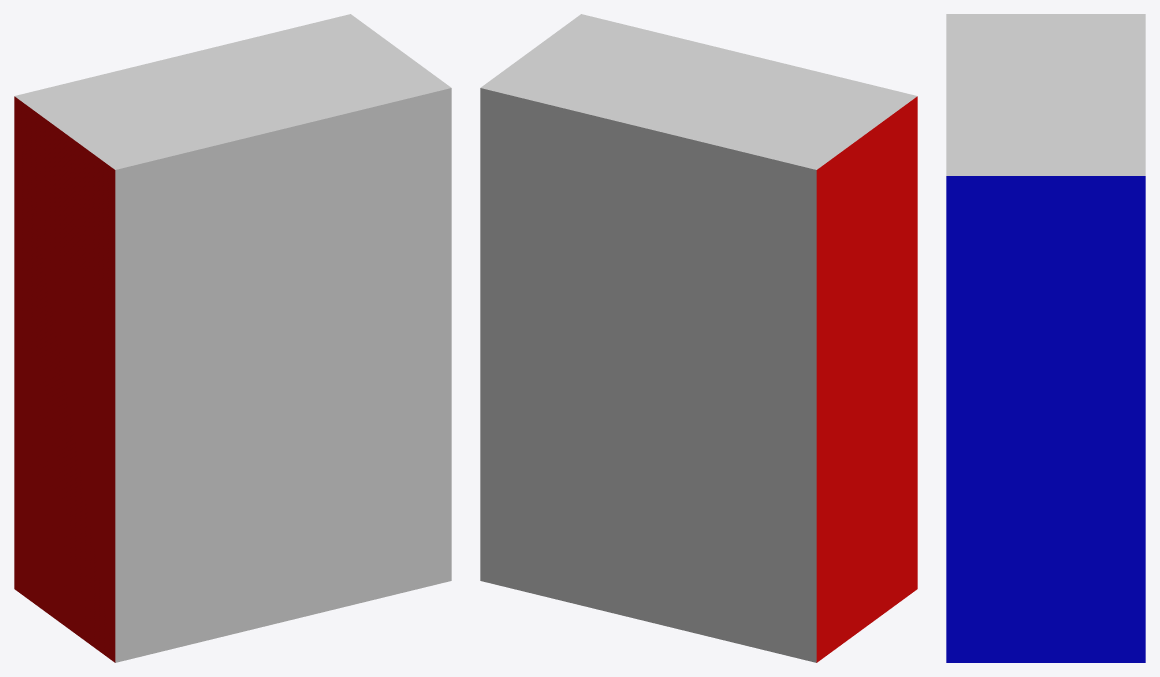
Rendered from totalTest.obj.
3 views of the same model, side by side, from view 1: azimuth 30°, elevation 25°; view 2: azimuth 150°, elevation 25°; view 3: azimuth 270°, elevation 25° (orthographic).
Parts seen in each view (by area): view 1: Куб; view 2: Куб; view 3: Куб.
Part boxes in pixels (box(x1,y1,x2,y2)): Куб: box(14, 14, 451, 662); Куб: box(480, 14, 917, 662); Куб: box(946, 14, 1145, 662).
Bounding box in the file's own units: 5 × 7 × 2.6.
